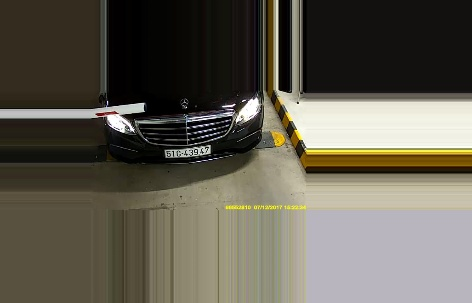plate: (163, 144, 215, 159)
